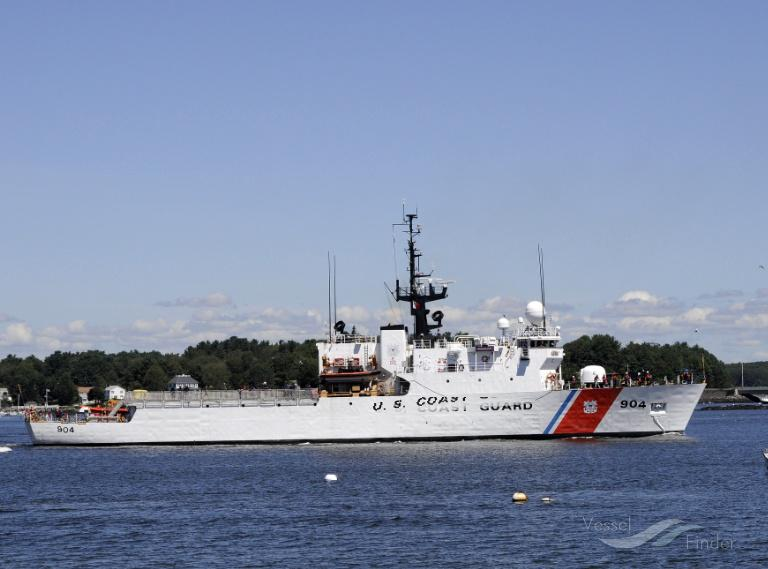OCR: (360, 398, 536, 420), (614, 394, 650, 412), (52, 420, 86, 435)
